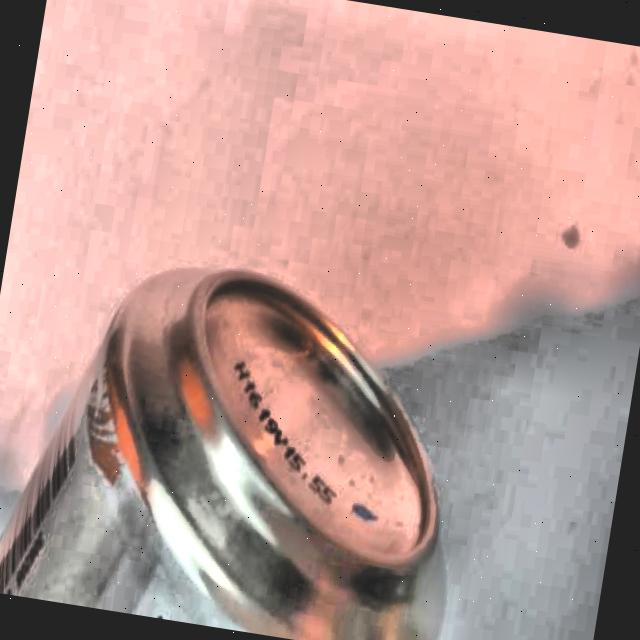metal: (52, 246, 498, 640)
